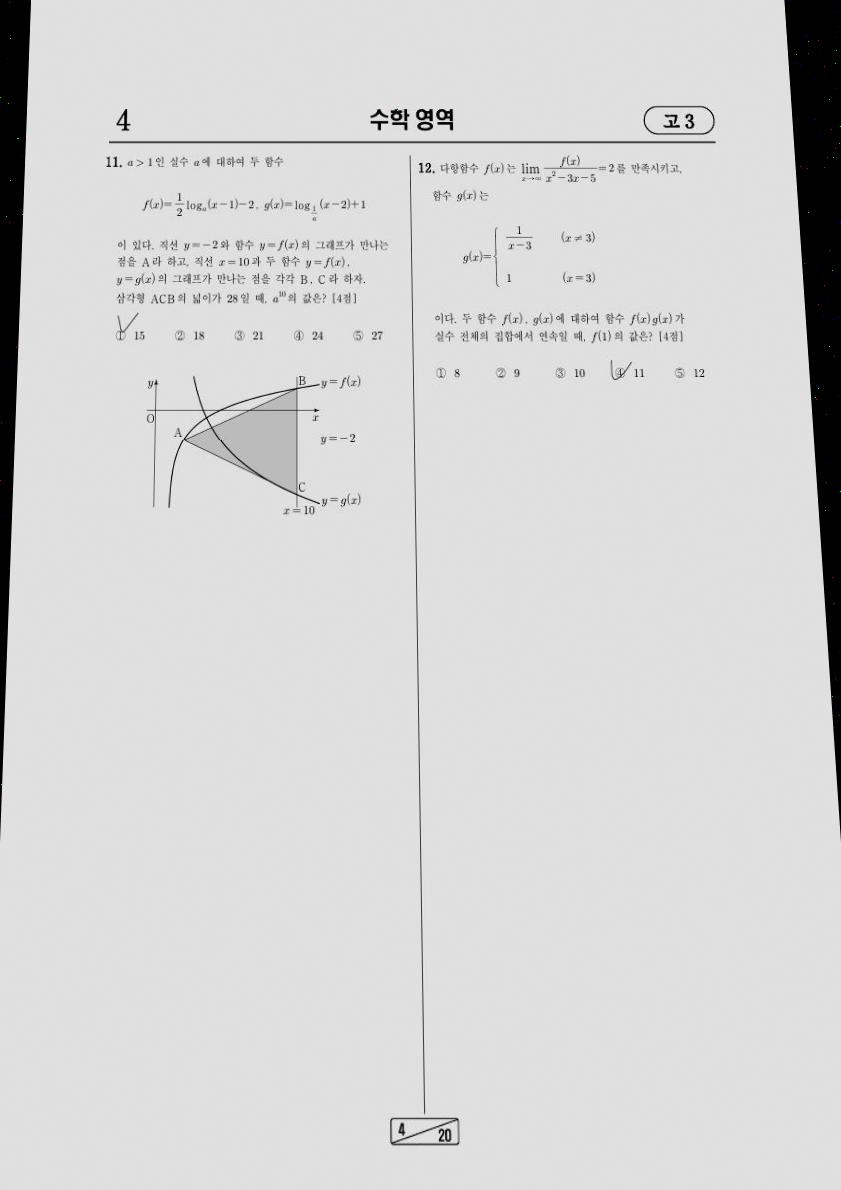question: (94, 148, 400, 536), (409, 148, 719, 398)
